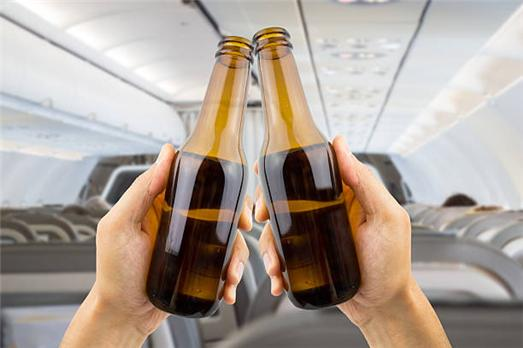alcohol: (248, 25, 364, 310), (146, 35, 252, 319)
